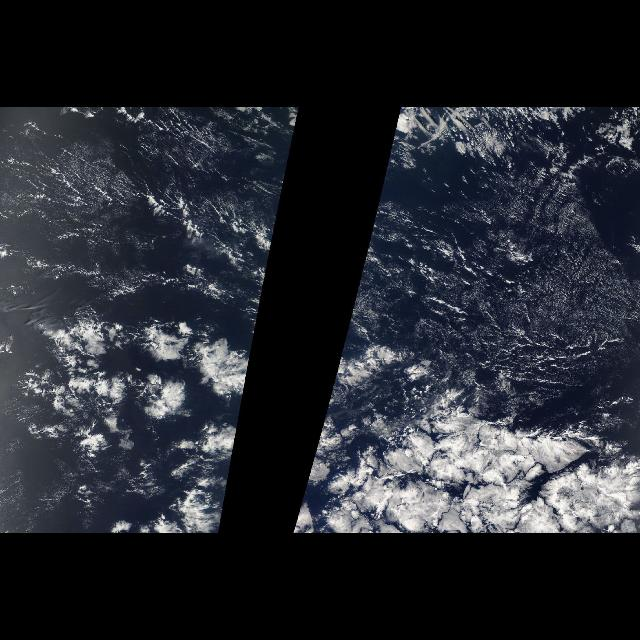Flower: (291, 366, 634, 532), (25, 301, 264, 533)
Gravel: (385, 111, 617, 346)
Sugar: (458, 216, 636, 387)
